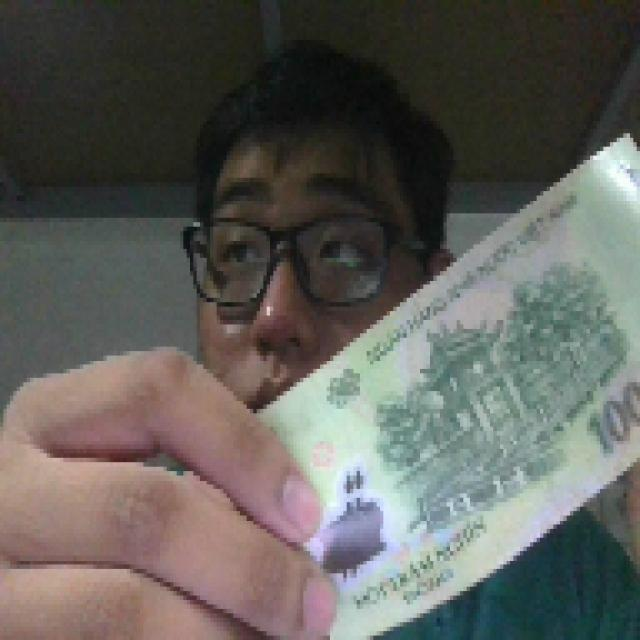100 000 VND: (246, 124, 636, 636)
